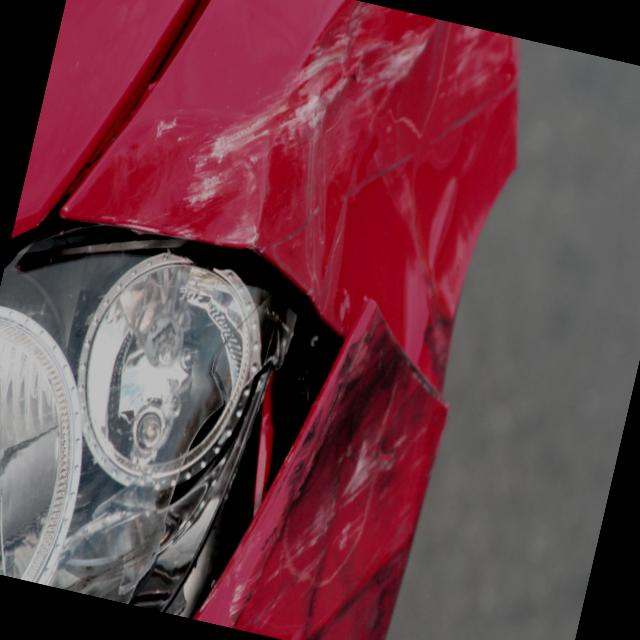Dechirure: (340, 288, 473, 417)
Phare abime: (92, 220, 373, 640)
Rayure: (223, 241, 509, 640)
